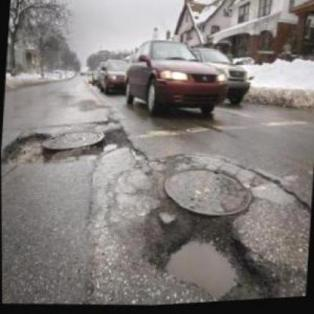Hueco: (138, 198, 289, 306), (1, 127, 53, 173), (99, 122, 137, 160)
